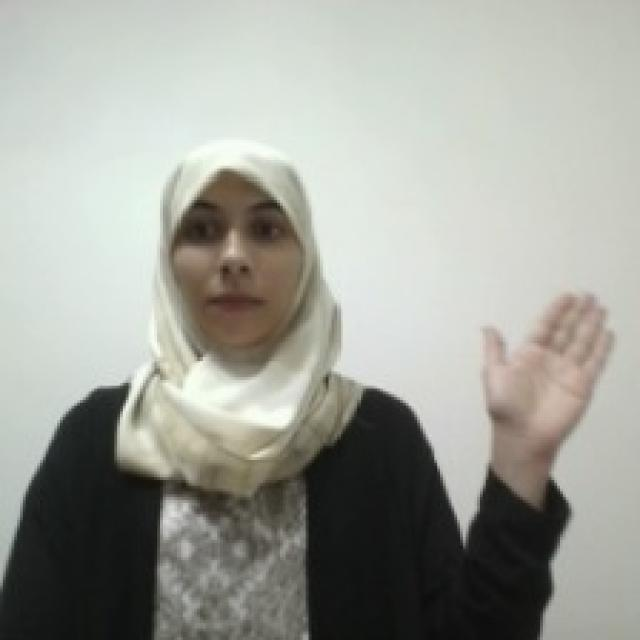Hello: (478, 286, 621, 447)
